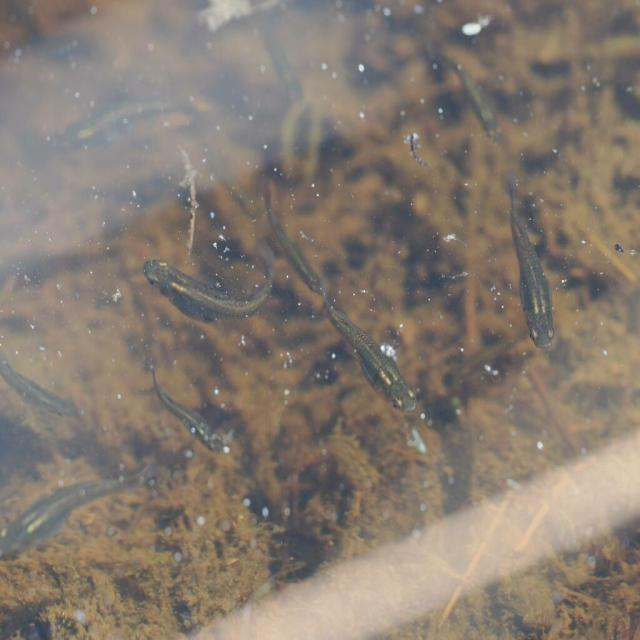Sivrisinek Baligi: (137, 238, 285, 337), (488, 170, 566, 355), (0, 469, 145, 566), (319, 290, 414, 422), (139, 356, 223, 458), (0, 345, 78, 430), (450, 50, 505, 147)
